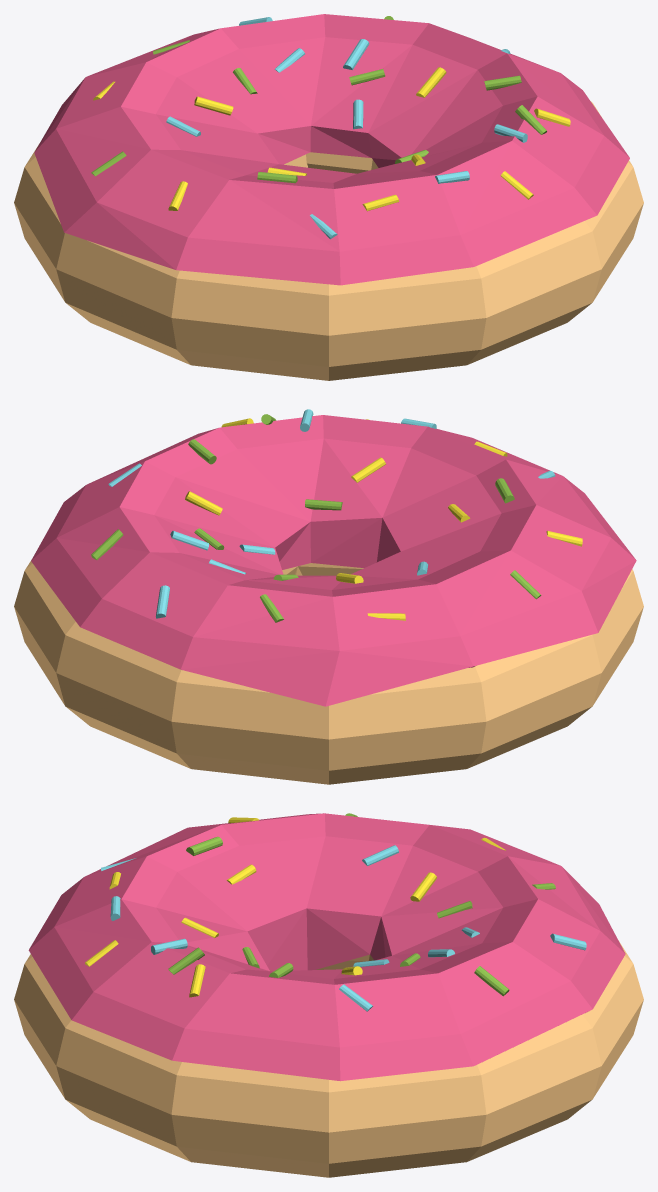
The model's file is donut.glb.
3 views of the same model, one above another, from view 1: azimuth 30°, elevation 25°; view 2: azimuth 150°, elevation 25°; view 3: azimuth 270°, elevation 25° (orthographic).
Parts seen in each view (by area): view 1: Node; view 2: Node; view 3: Node.
Part boxes in pixels (left/top/right/bottom): Node: left=14, top=14, right=643, bottom=380; Node: left=14, top=409, right=643, bottom=784; Node: left=14, top=813, right=643, bottom=1177.
Size of the model in its own units: 0.34 by 0.1102 by 0.34.
